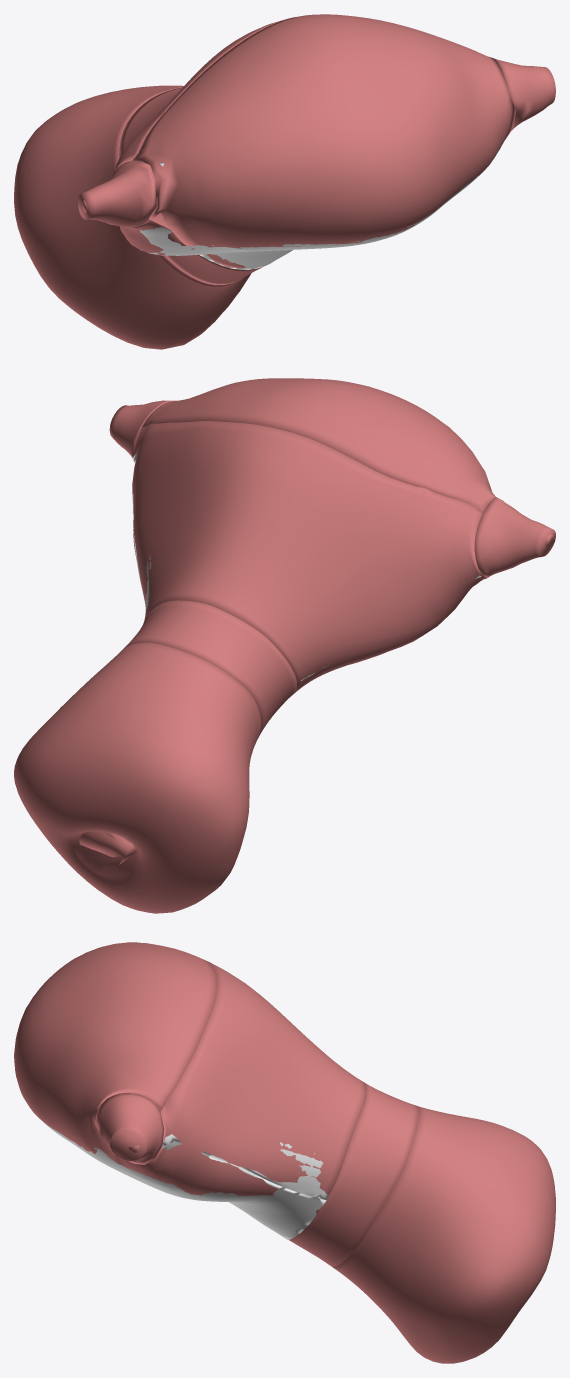
File: vh_f_uterus-100.fbx
3 renders of one model, top to bottom at view 1: azimuth 30°, elevation 25°; view 2: azimuth 150°, elevation 25°; view 3: azimuth 270°, elevation 25°, orthographic. The views are drawn at different scales.
Visible parts, largest first — view 1: VH_F_fundus_of_uterus, VH_F_cervix, VH_F_cornua, VH_F_posterior_wall_of_uterus, VH_F_lower_uterine_segment, VH_F_body_of_uterus; view 2: VH_F_body_of_uterus, VH_F_cervix, VH_F_fundus_of_uterus, VH_F_lower_uterine_segment, VH_F_cornua, VH_F_external_cervical_os; view 3: VH_F_cervix, VH_F_body_of_uterus, VH_F_fundus_of_uterus, VH_F_lower_uterine_segment, VH_F_posterior_wall_of_uterus, VH_F_cornua, VH_F_anterior_wall_of_uterus.
Part boxes in pixels (<box>): VH_F_fundus_of_uterus: <box>132,14,516,248</box>; VH_F_cervix: <box>14,85,251,349</box>; VH_F_cornua: <box>78,58,555,227</box>; VH_F_posterior_wall_of_uterus: <box>140,147,500,269</box>; VH_F_lower_uterine_segment: <box>119,87,262,285</box>; VH_F_body_of_uterus: <box>114,18,511,268</box>; VH_F_body_of_uterus: <box>132,421,486,694</box>; VH_F_cervix: <box>14,642,261,913</box>; VH_F_fundus_of_uterus: <box>142,378,495,513</box>; VH_F_lower_uterine_segment: <box>124,600,296,737</box>; VH_F_cornua: <box>109,400,555,578</box>; VH_F_external_cervical_os: <box>79,831,136,864</box>; VH_F_cervix: <box>332,1106,555,1363</box>; VH_F_body_of_uterus: <box>115,962,366,1213</box>; VH_F_fundus_of_uterus: <box>14,942,217,1163</box>; VH_F_lower_uterine_segment: <box>289,1083,419,1266</box>; VH_F_posterior_wall_of_uterus: <box>40,1119,326,1239</box>; VH_F_cornua: <box>95,942,164,1164</box>; VH_F_anterior_wall_of_uterus: <box>162,1134,328,1199</box>.
Size of the model in its own units: 5.25 by 4.7 by 5.87.
